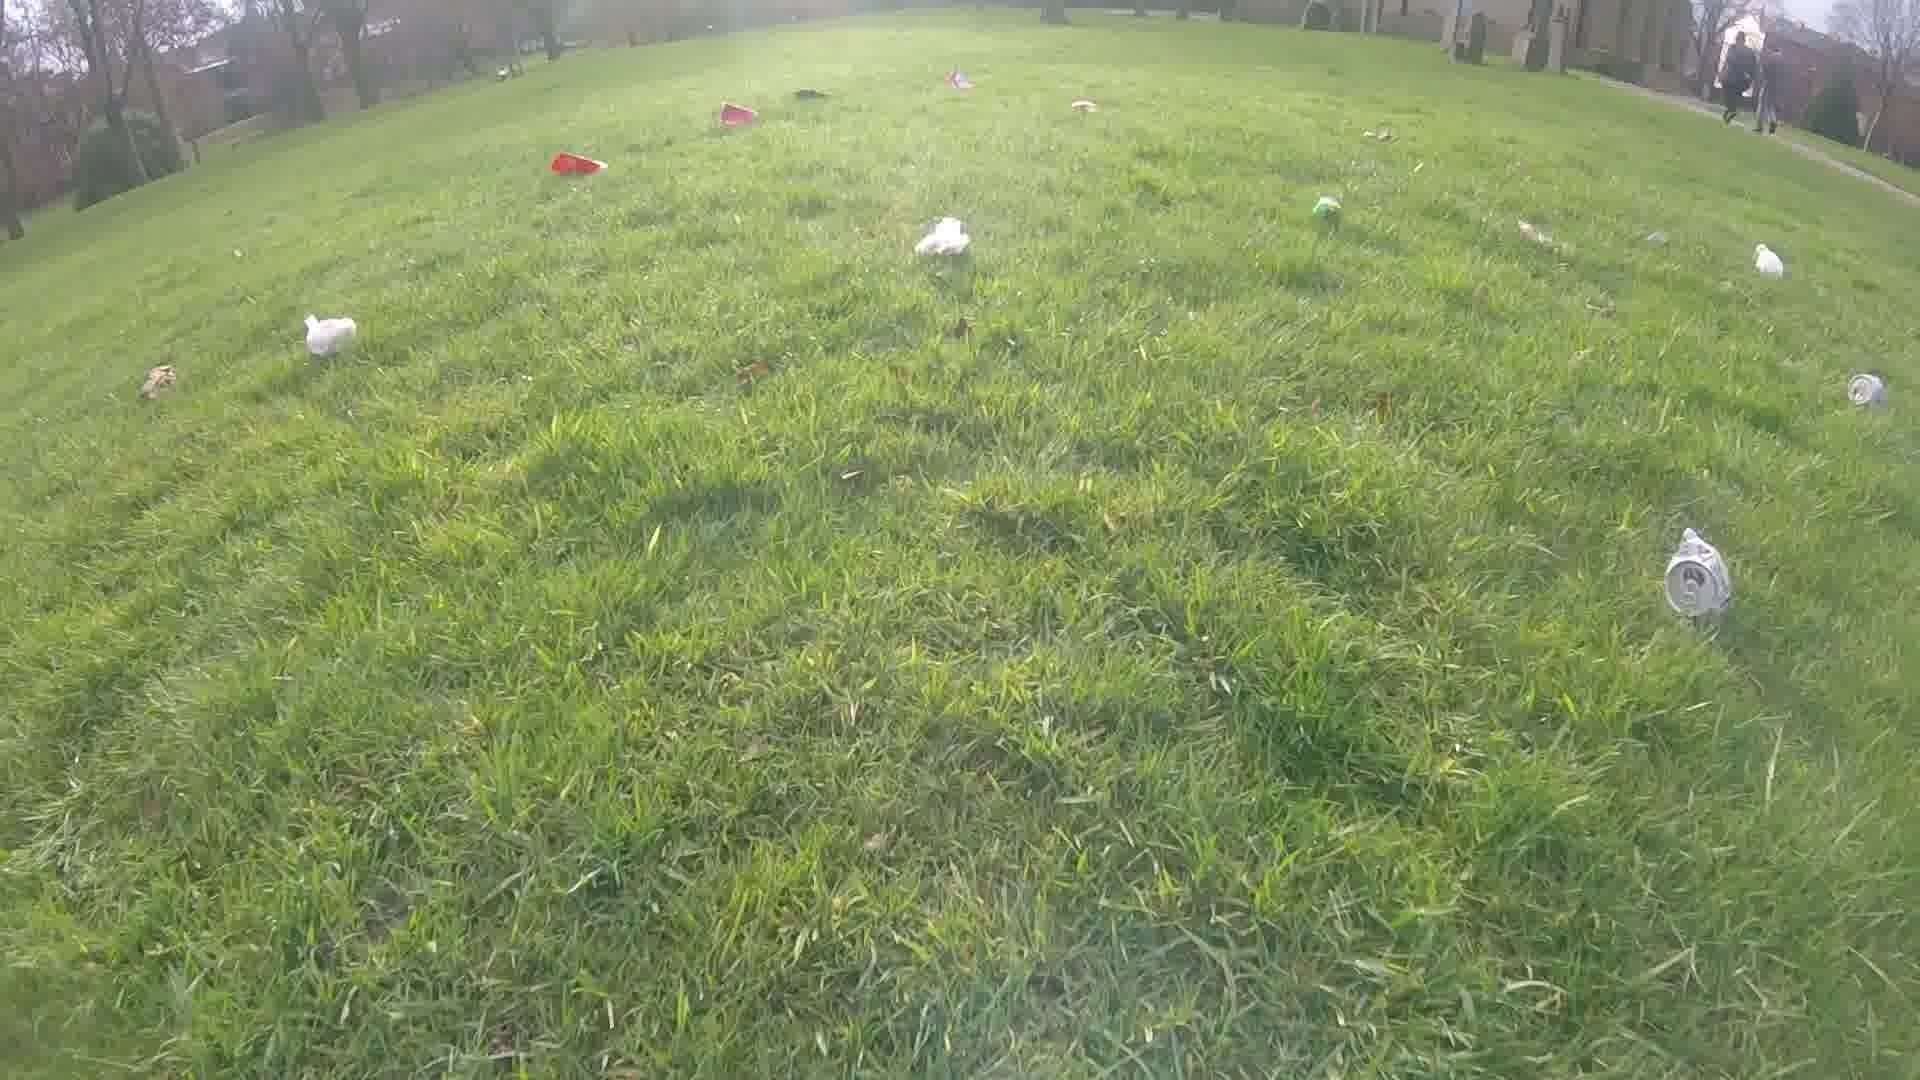litter: (1669, 530, 1731, 615), (302, 315, 356, 359), (918, 218, 969, 260), (550, 152, 609, 177), (711, 100, 764, 127), (135, 363, 174, 397), (1753, 247, 1787, 280), (1516, 222, 1559, 247), (1847, 380, 1886, 404), (1311, 196, 1345, 218), (945, 71, 975, 91), (1646, 229, 1672, 251), (785, 88, 832, 99), (1362, 128, 1393, 142), (1069, 102, 1101, 115)
